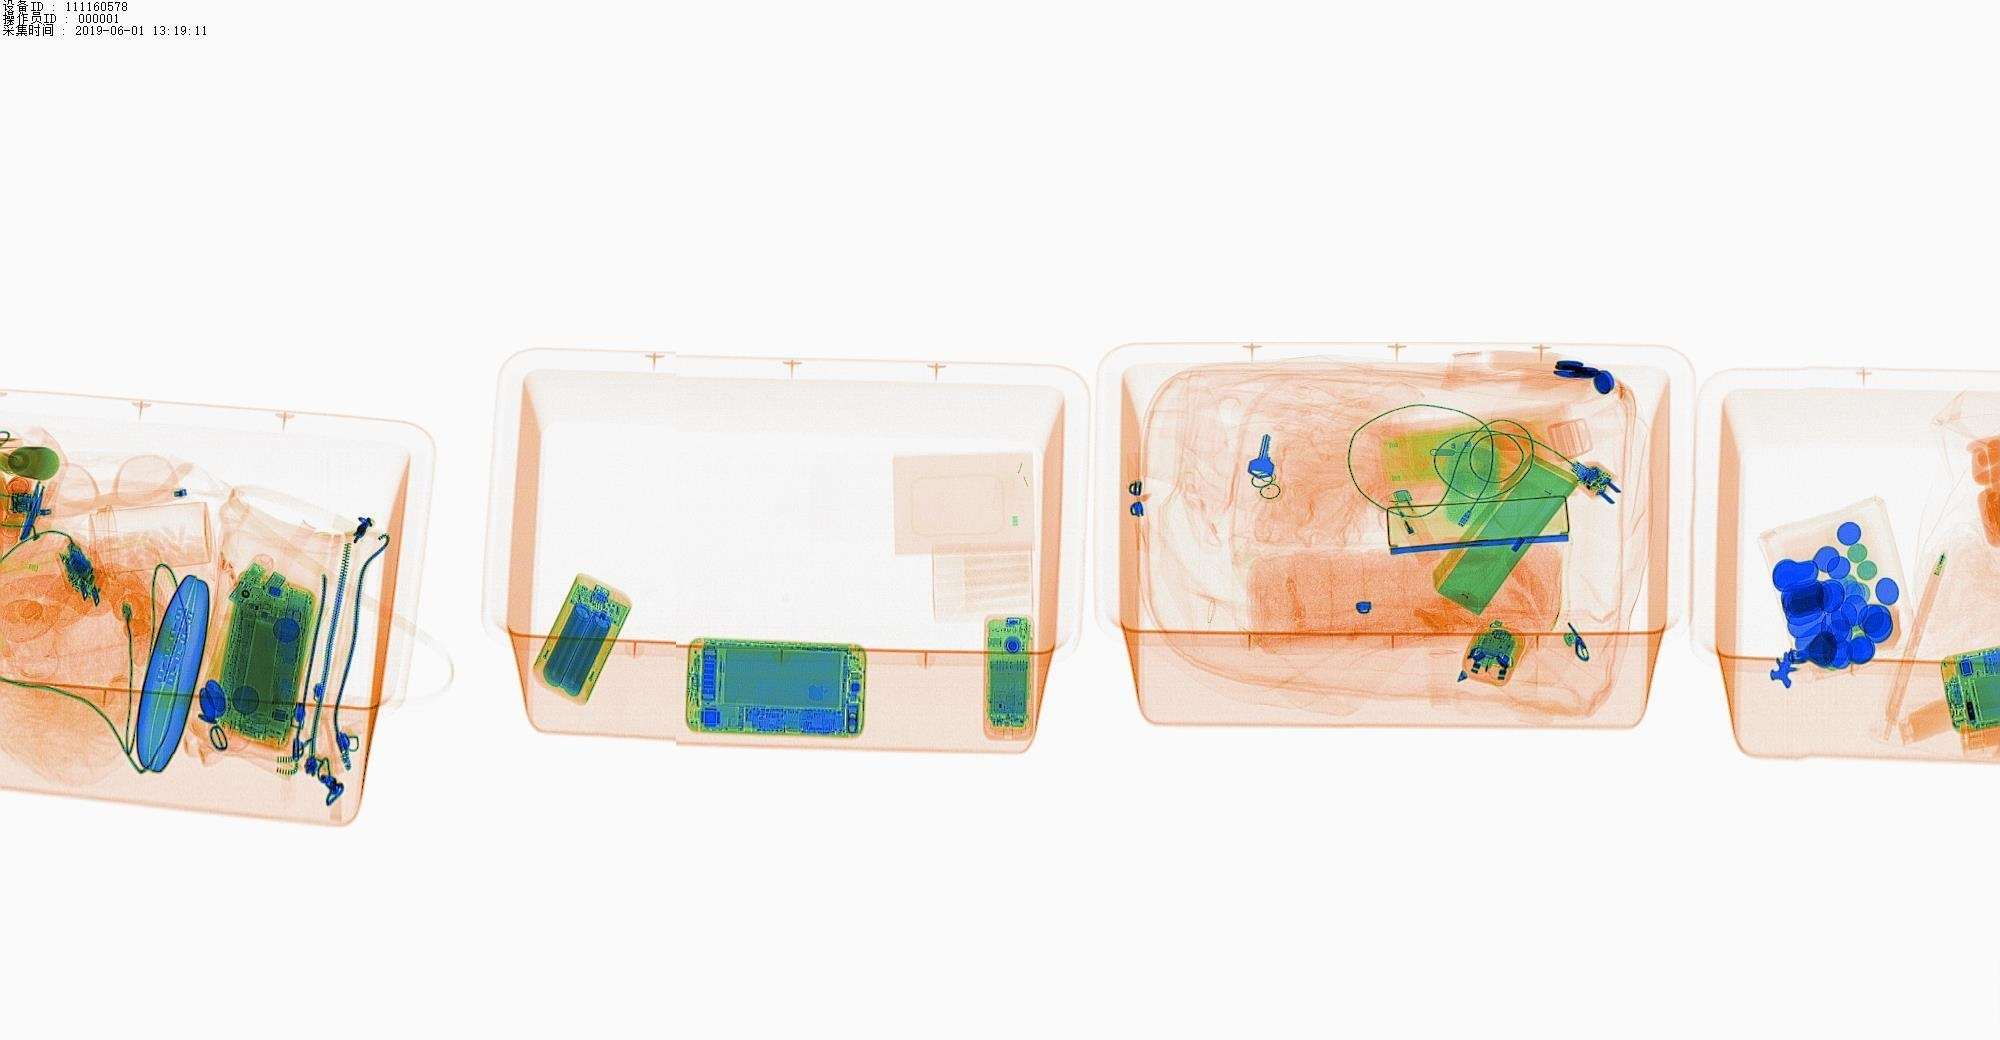NonmetallicFire: (1378, 482, 1452, 568)
